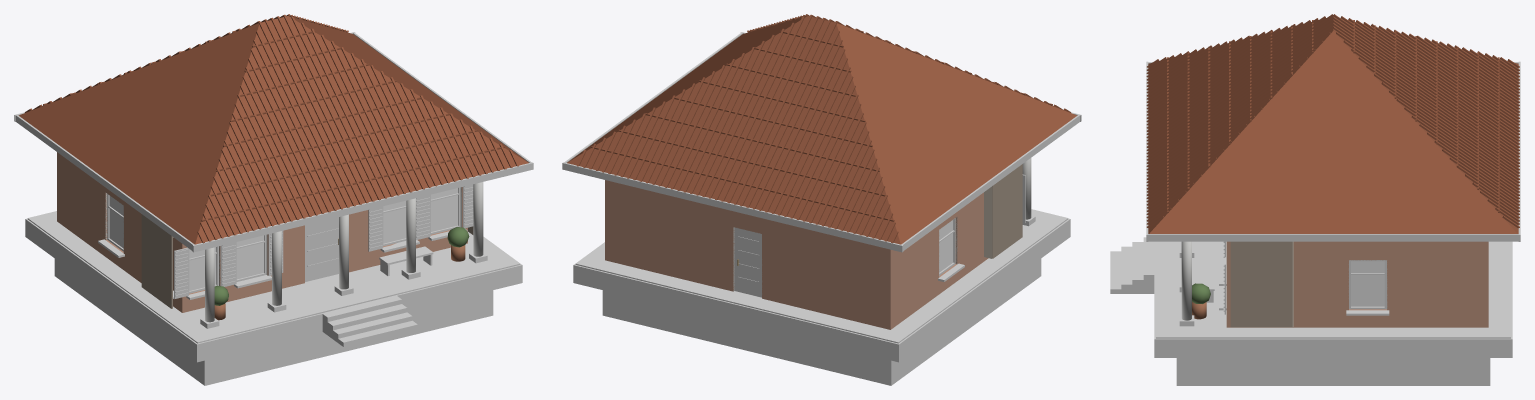
File: bungalow_10x9_1.glb
3 renders of one model, left to right at view 1: azimuth 30°, elevation 25°; view 2: azimuth 150°, elevation 25°; view 3: azimuth 270°, elevation 25°, orthographic. The views are drawn at different scales.
Visible parts, largest first — view 1: bungalow_10x9_1; view 2: bungalow_10x9_1; view 3: bungalow_10x9_1.
Boxes of the visible parts, bbox=[...] form: bungalow_10x9_1: bbox=[14, 14, 533, 385]; bungalow_10x9_1: bbox=[562, 14, 1081, 385]; bungalow_10x9_1: bbox=[1110, 14, 1520, 385].
Bounding box in the file's own units: 11.9 × 9.31 × 11.9.
